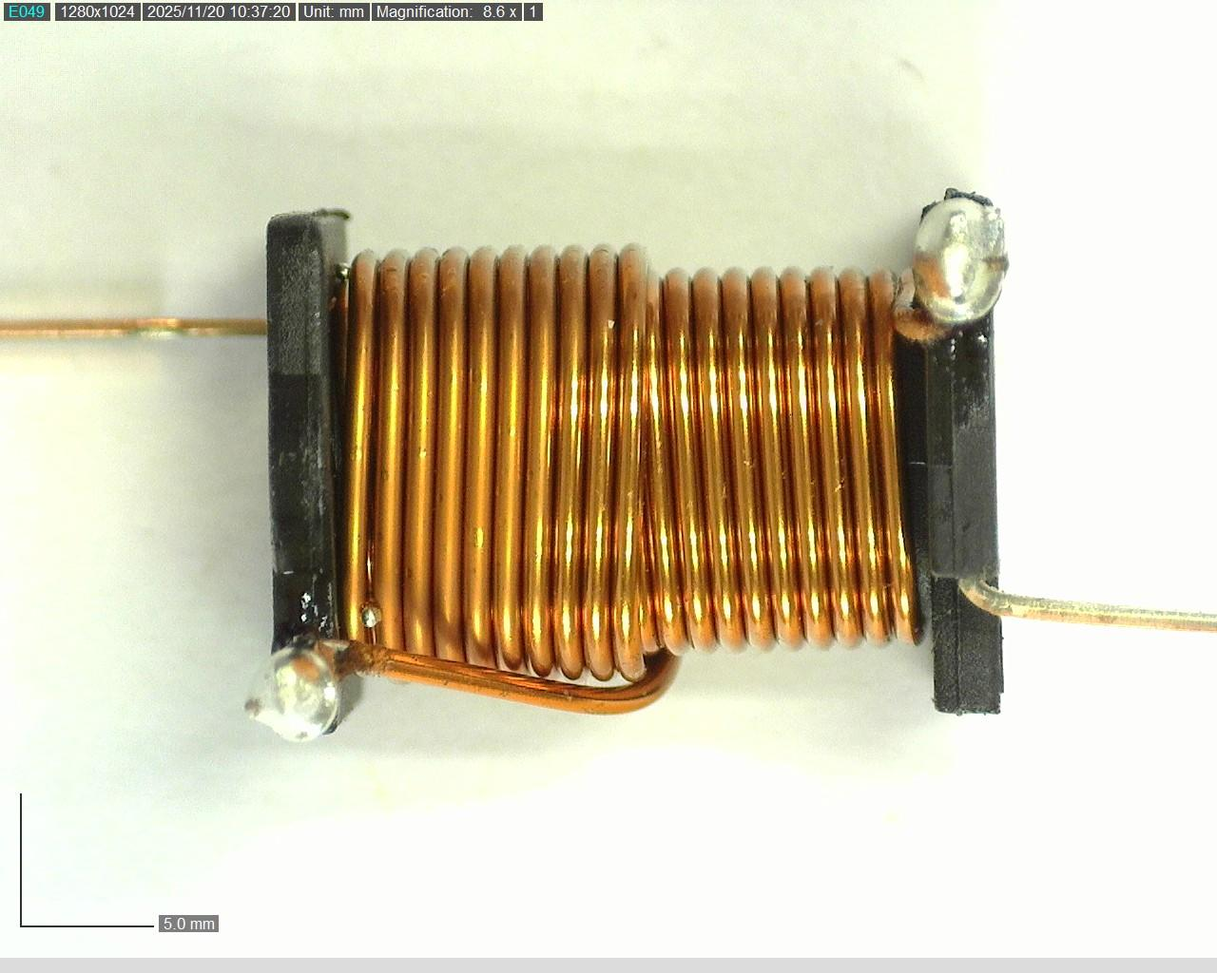good: (265, 202, 341, 733), (800, 223, 940, 469)
